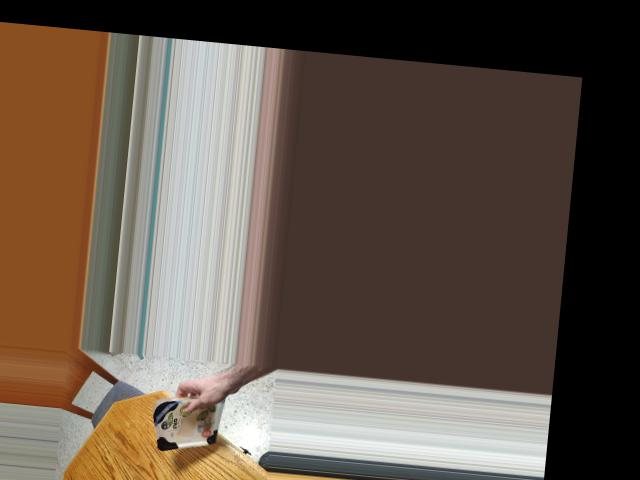cheese: (147, 389, 236, 453)
